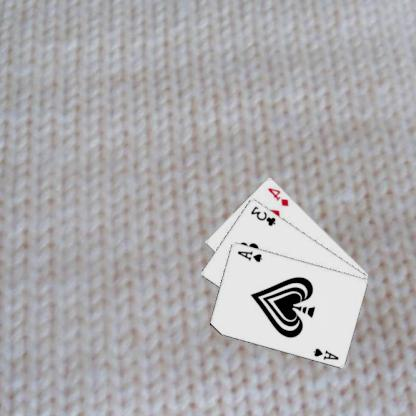3C: (250, 203, 278, 227)
4D: (266, 184, 291, 208)
AS: (312, 345, 342, 361), (236, 248, 265, 263)
